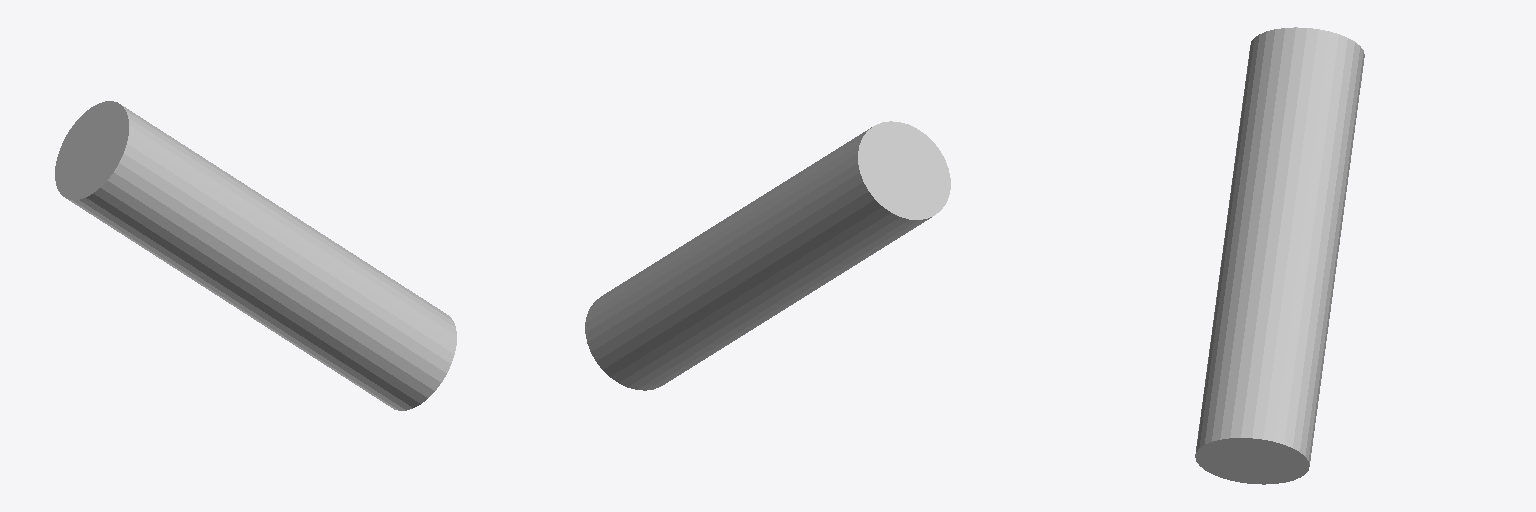
Rendered from mesh_upperleg_r3.obj.
The picture shows the model from 3 angles: view 1: azimuth 30°, elevation 25°; view 2: azimuth 150°, elevation 25°; view 3: azimuth 270°, elevation 25°; orthographic projection.
Visible parts, largest first — view 1: Cylinder.004; view 2: Cylinder.004; view 3: Cylinder.004.
Part boxes in pixels (left/top/right/bottom): Cylinder.004: left=55, top=101, right=456, bottom=410; Cylinder.004: left=585, top=121, right=950, bottom=390; Cylinder.004: left=1195, top=27, right=1364, bottom=484.
Bounding box in the file's own units: 0.7839 × 0.7015 × 0.3182.